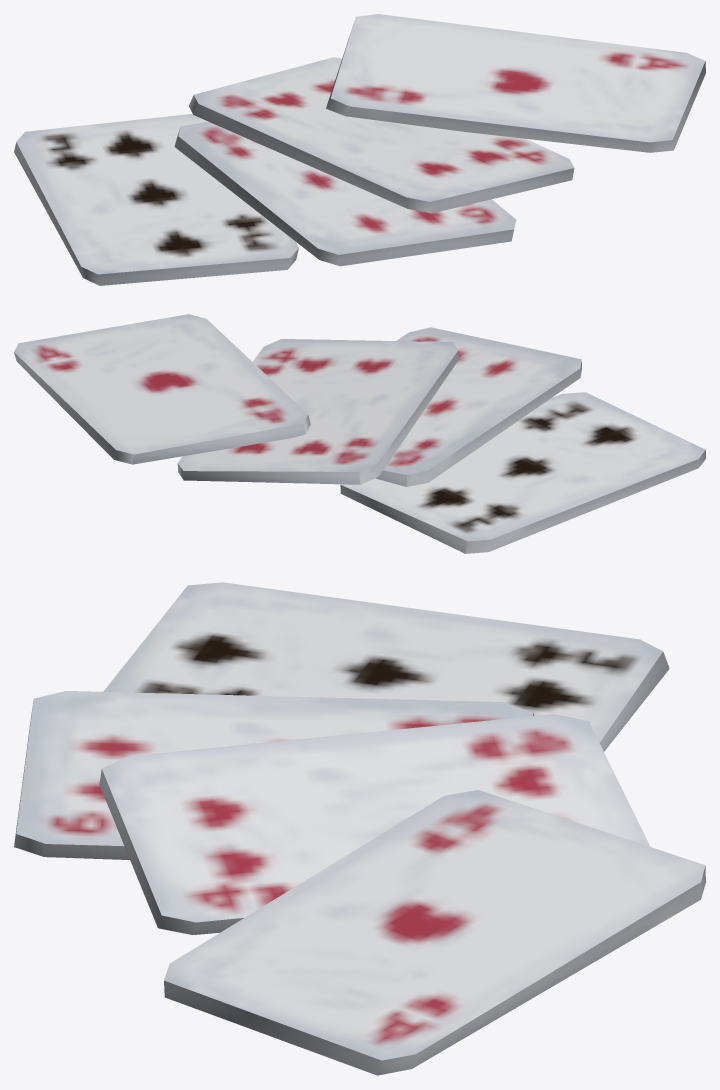
File: SM_PROP_cards_city_02.fbx
3 renders of one model, top to bottom at view 1: azimuth 30°, elevation 25°; view 2: azimuth 150°, elevation 25°; view 3: azimuth 270°, elevation 25°, orthographic. The views are drawn at different scales.
Parts seen in each view (by area): view 1: SM_PROP_cards_city_02; view 2: SM_PROP_cards_city_02; view 3: SM_PROP_cards_city_02.
Part boxes in pixels (<box>): SM_PROP_cards_city_02: <box>14,14,705,285</box>; SM_PROP_cards_city_02: <box>14,314,705,553</box>; SM_PROP_cards_city_02: <box>14,582,705,1075</box>.
Bounding box in the file's own units: 35.09 × 1.73 × 21.48.
